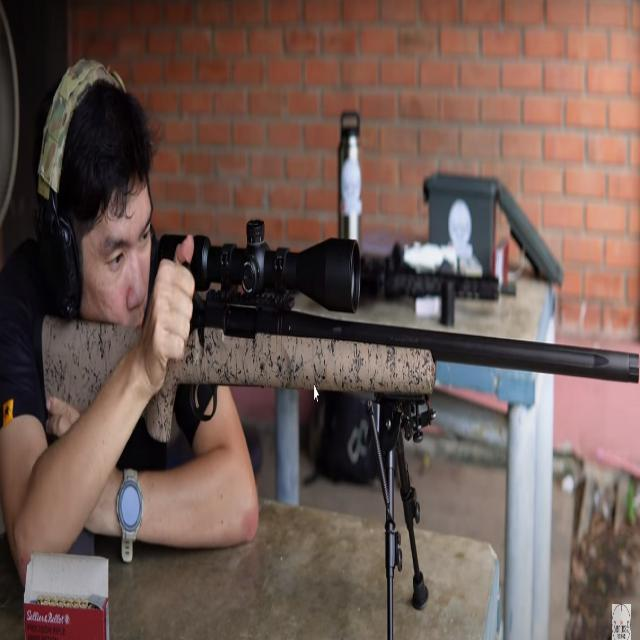rifle: (35, 214, 638, 634)
